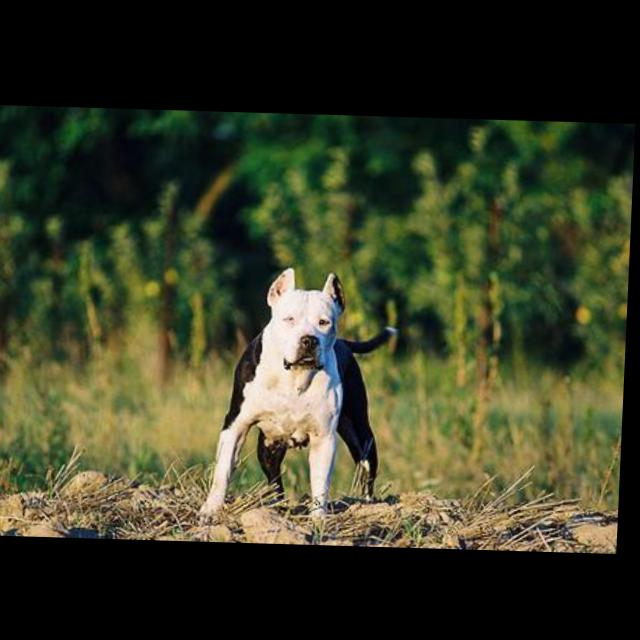amstaff: (204, 263, 404, 526)
